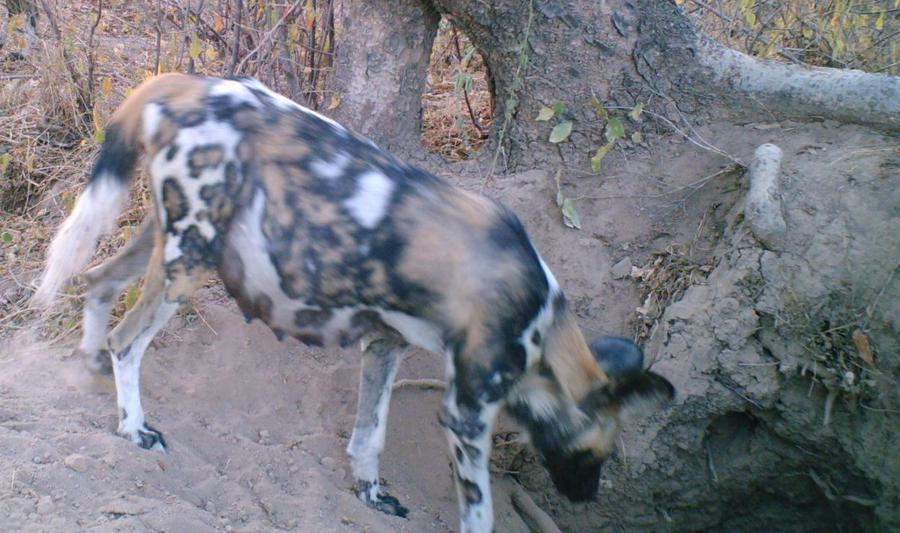wilddog: (1, 1, 900, 533)
